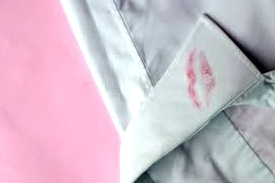lipstick: (182, 48, 212, 110)
